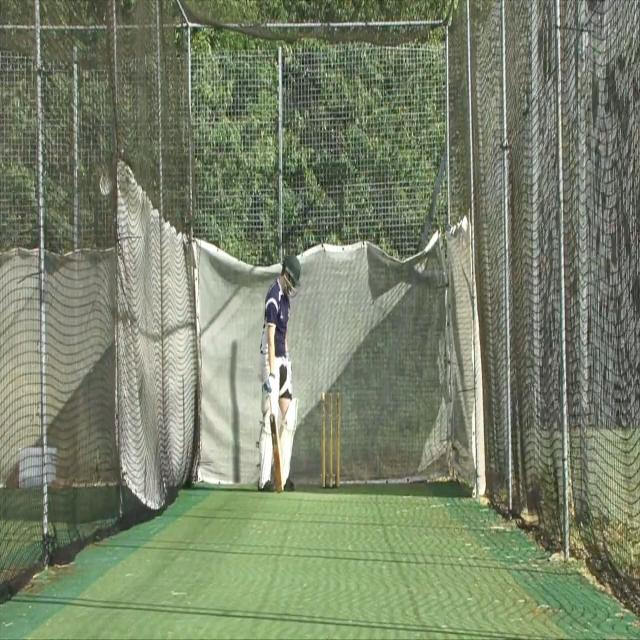batsman: (255, 250, 302, 495)
